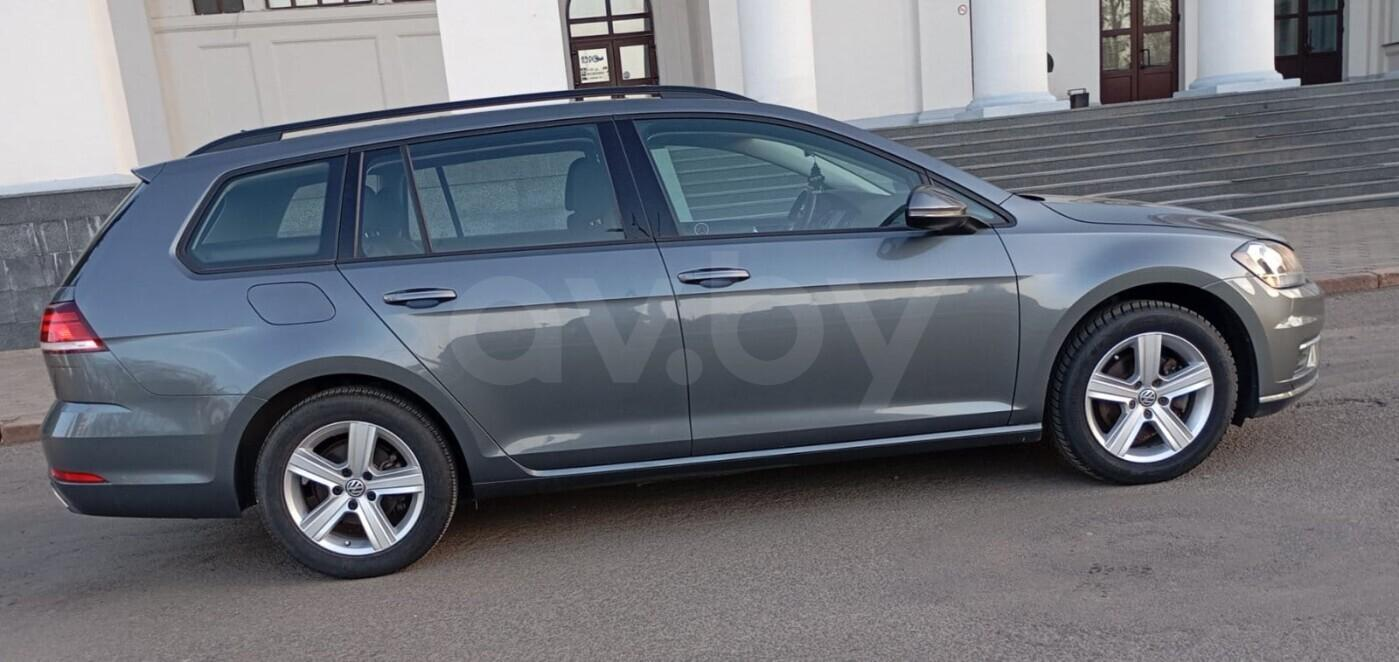Golf_2017-2021: (36, 94, 1332, 576)
